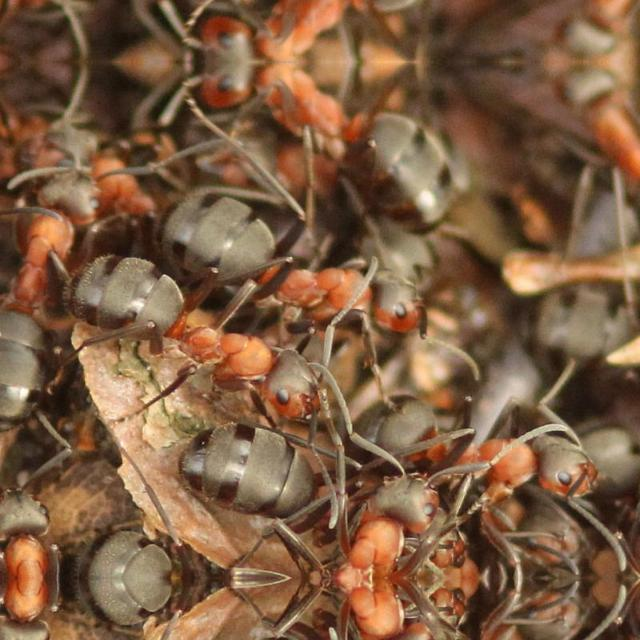Formica: (124, 176, 490, 360), (65, 234, 369, 428), (340, 344, 634, 520), (215, 62, 498, 216), (20, 100, 276, 268), (0, 150, 116, 406), (184, 394, 354, 544), (306, 445, 470, 577), (214, 0, 496, 62), (306, 578, 470, 640)
